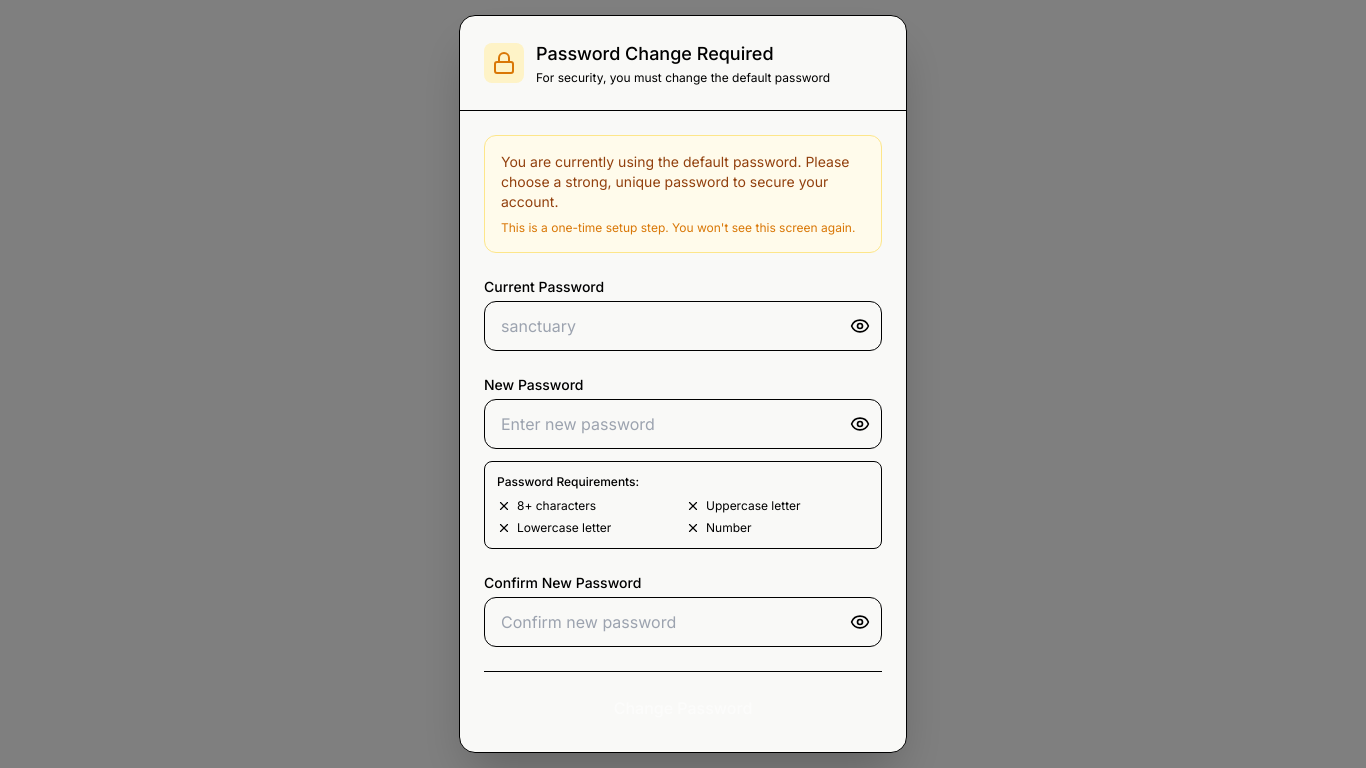
Test: ChangePasswordModal › password match indicator › shows mismatch indicator when passwords differ
Type "Password1" into the password field with placeholder "Enter new password" at (683, 424), box [484, 399, 882, 449]
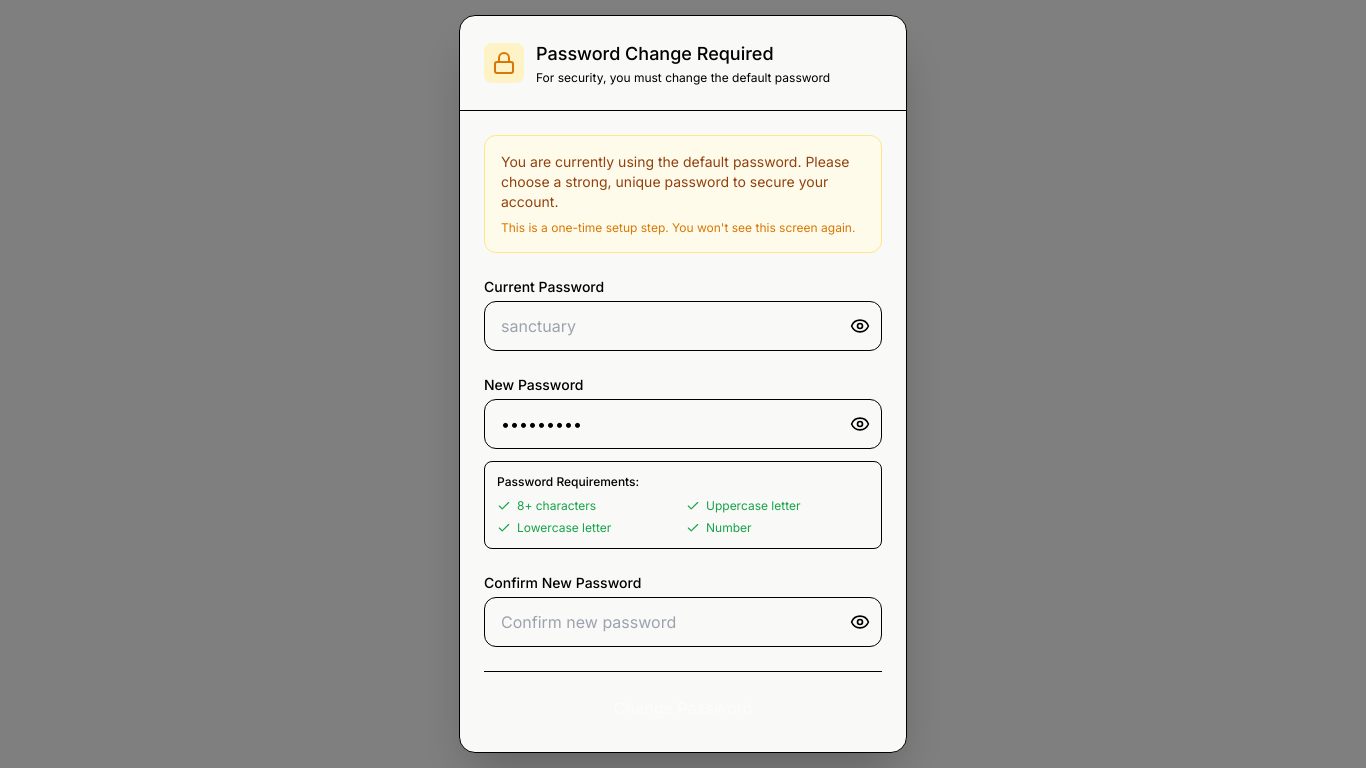
Type "Password2" into the password field with placeholder "Confirm new password" at (683, 622), box [484, 597, 882, 647]
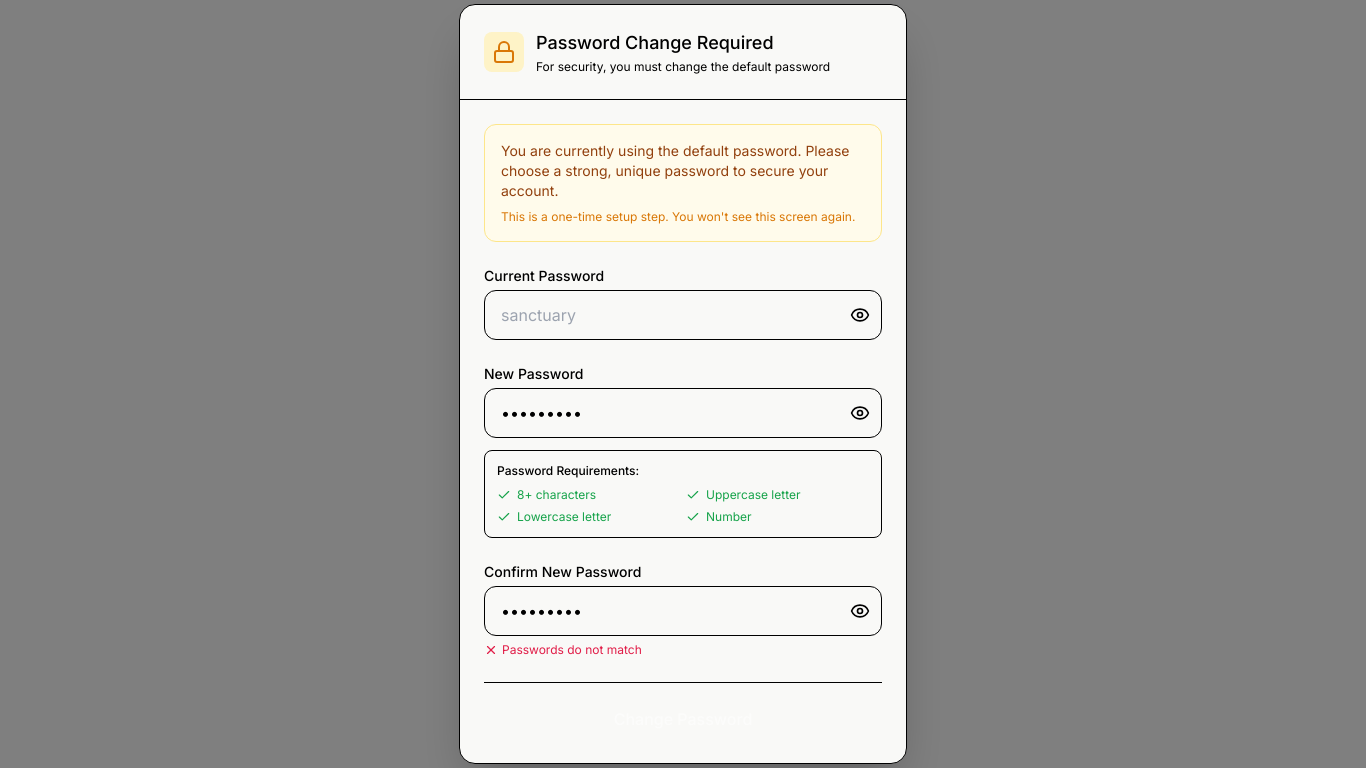
Expected: the text "Passwords do not match" is shown, [502, 642, 642, 658]
